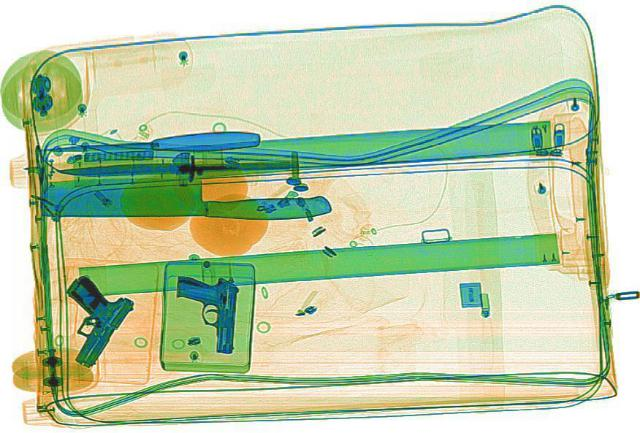Gun: (26, 270, 144, 366), (172, 273, 238, 353)
Knife: (37, 171, 330, 222), (35, 128, 258, 155), (59, 157, 289, 176)
